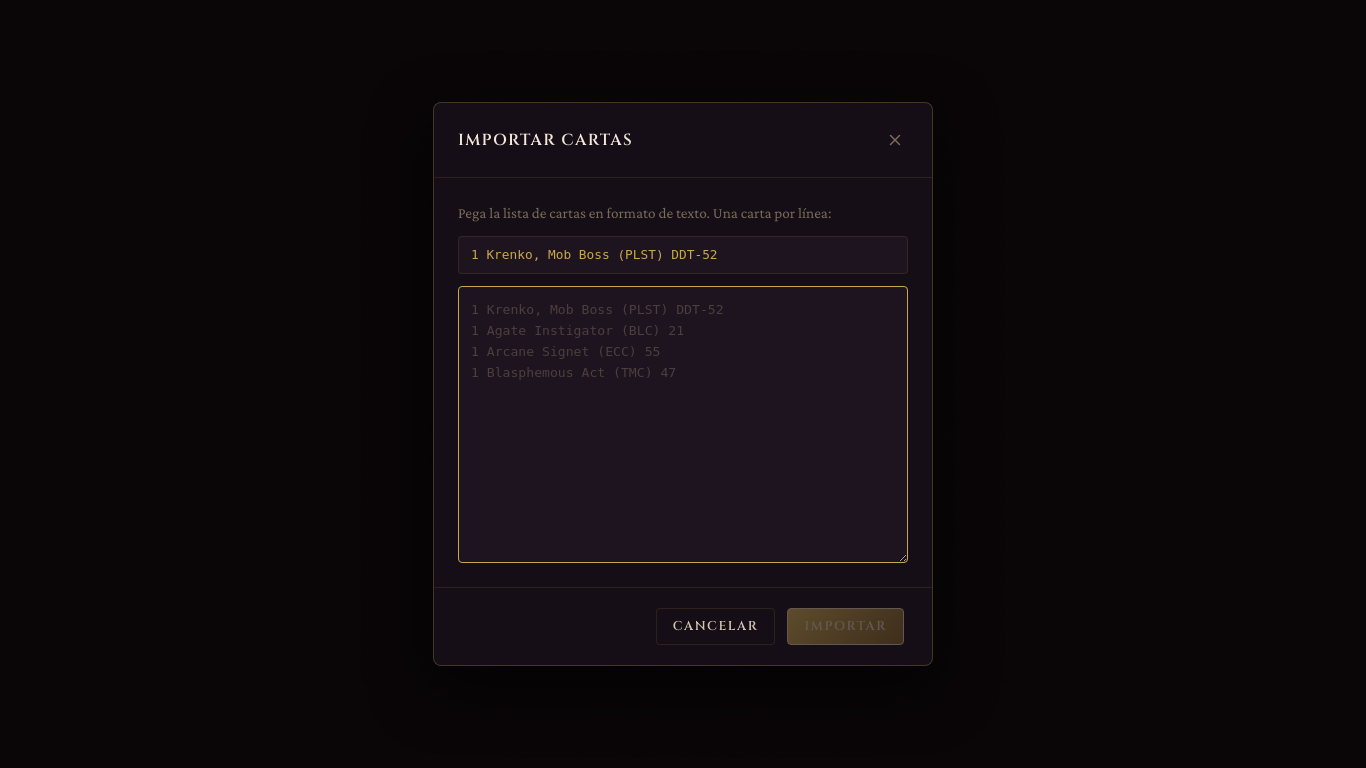
ImportarMazoModal › importa la lista y muestra el resumen
Type "1 Sol Ring" into the text box with placeholder "Krenko" at (683,424), box left=458, top=286, right=908, bottom=563
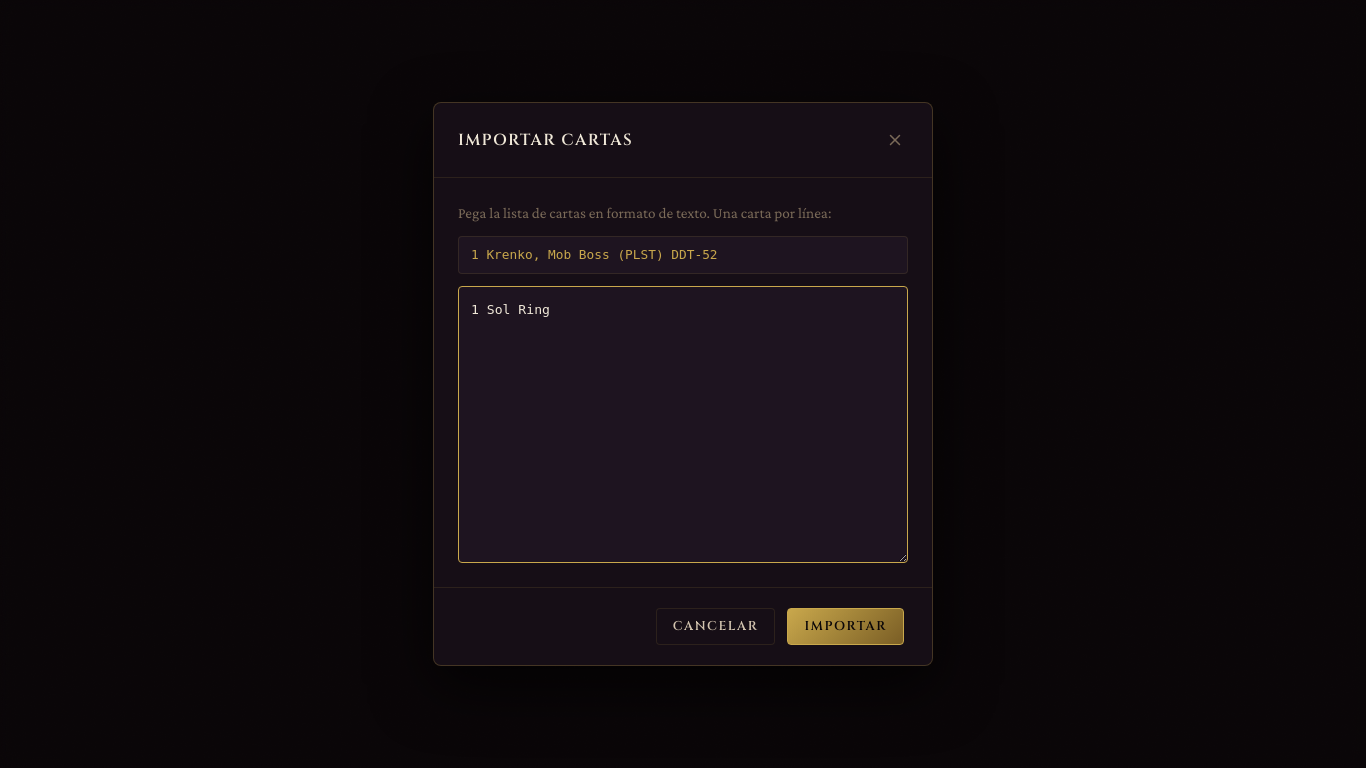
Click the button "Importar" at (846,627), box left=788, top=608, right=904, bottom=645
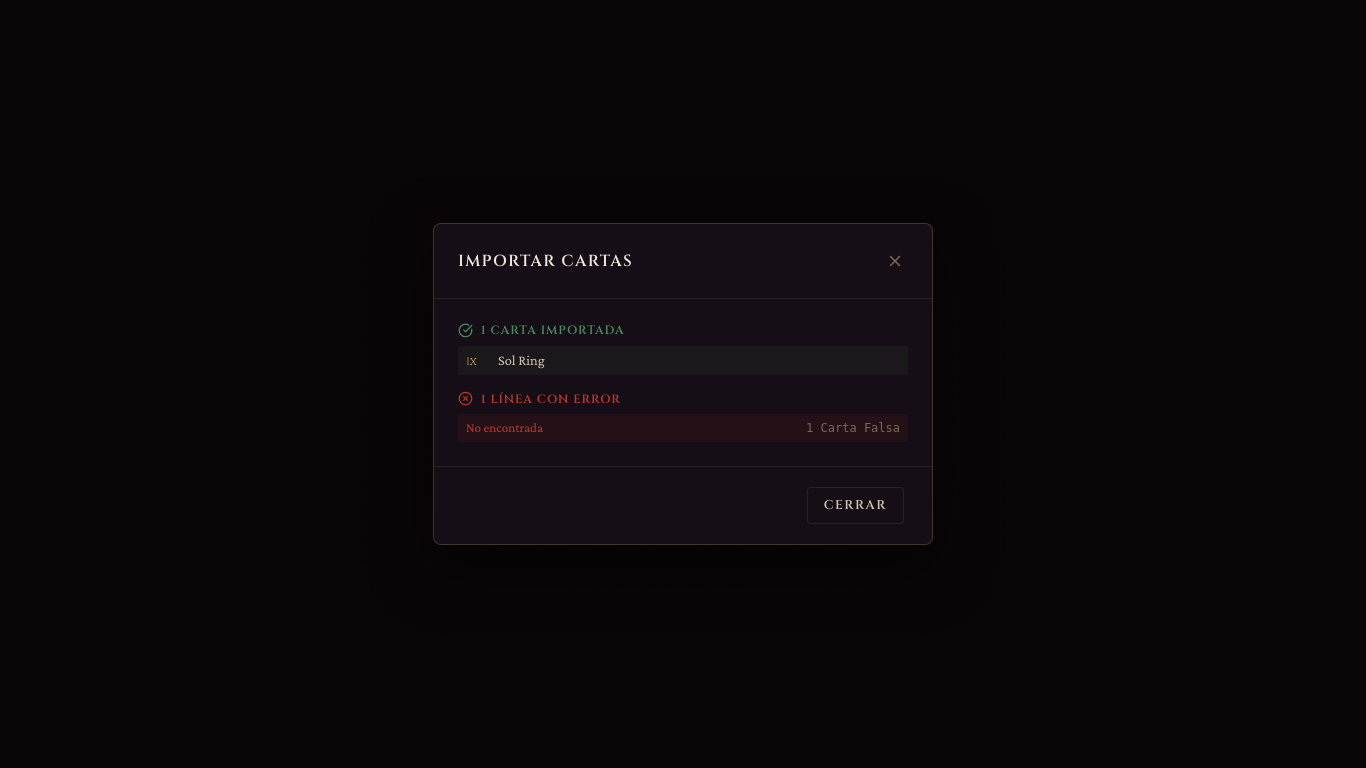
Expected: the heading "1 carta importada" is shown, left=458, top=322, right=624, bottom=338
Expected: the heading "1 línea con error" is shown, left=458, top=391, right=621, bottom=407
